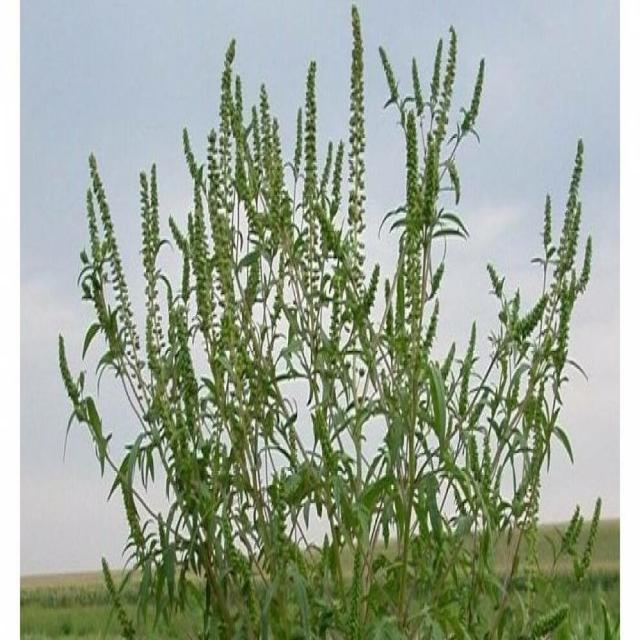ambrosia: (244, 8, 601, 600), (68, 9, 246, 588)
